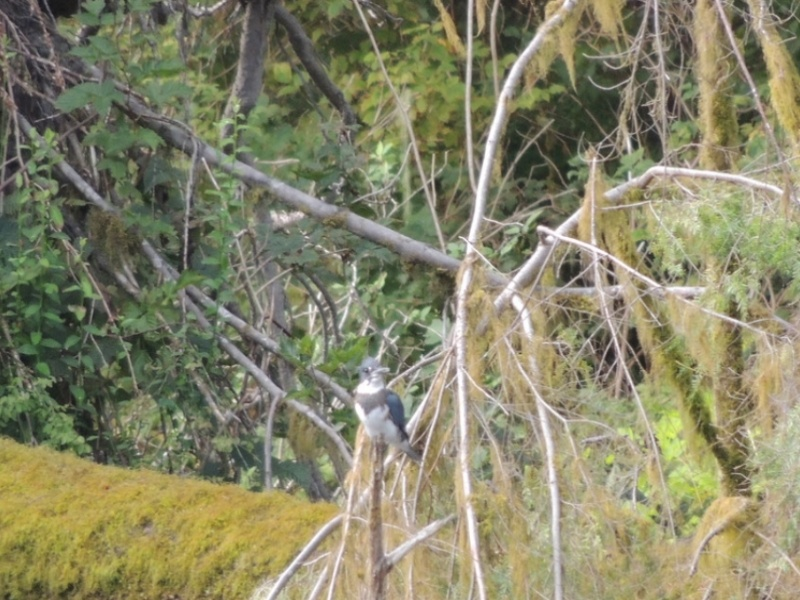kingfisher: (350, 357, 414, 458)
